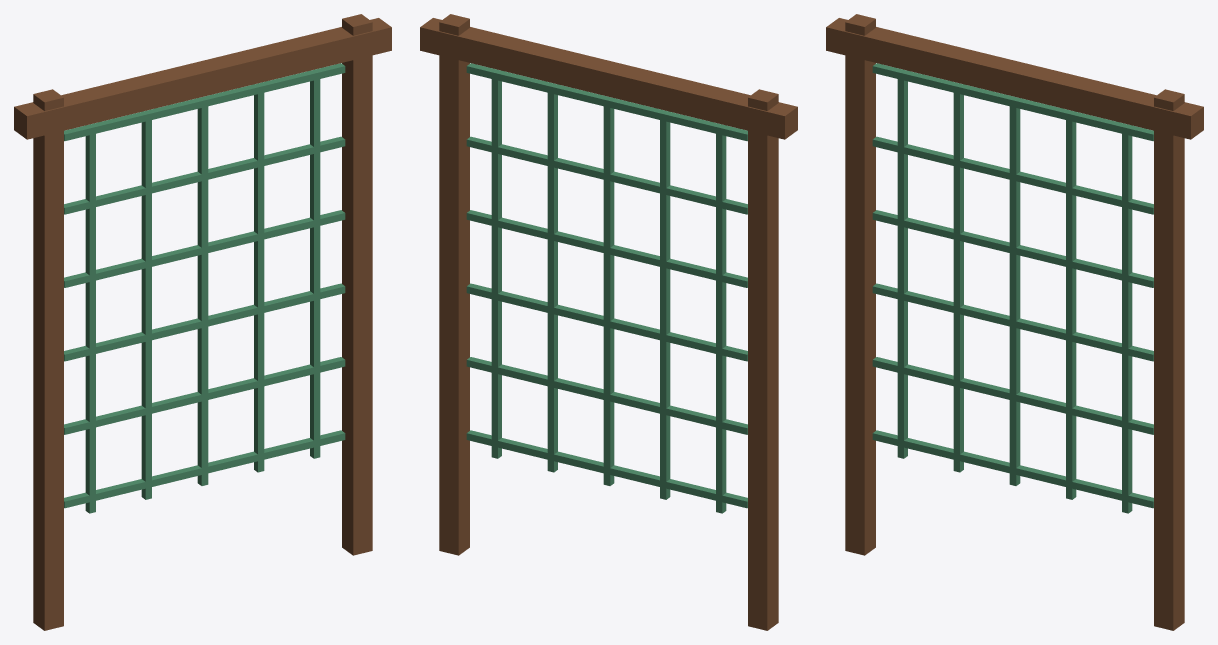
The model's file is fishing_net_rack.glb.
The picture shows the model from 3 angles, left to right: view 1: azimuth 30°, elevation 25°; view 2: azimuth 150°, elevation 25°; view 3: azimuth 330°, elevation 25°; orthographic projection.
Visible parts, largest first — view 1: fishing_net_rack; view 2: fishing_net_rack; view 3: fishing_net_rack.
Part boxes in pixels (x1=…): fishing_net_rack: x1=14, y1=14, x2=391, y2=630; fishing_net_rack: x1=420, y1=14, x2=797, y2=630; fishing_net_rack: x1=826, y1=14, x2=1203, y2=630.
Bounding box in the file's own units: 1.3 × 1.8 × 0.08.
